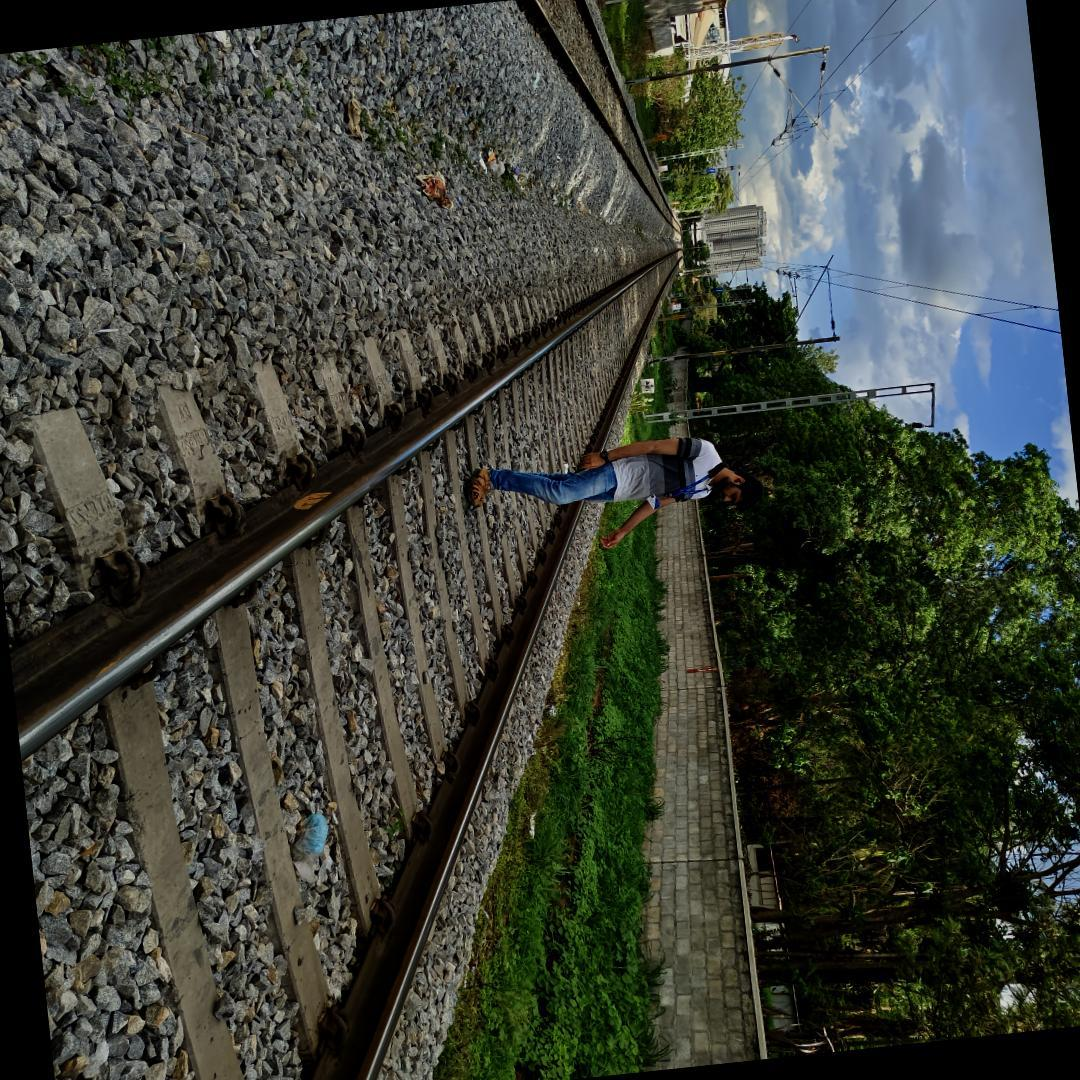standing: (446, 411, 772, 568)
